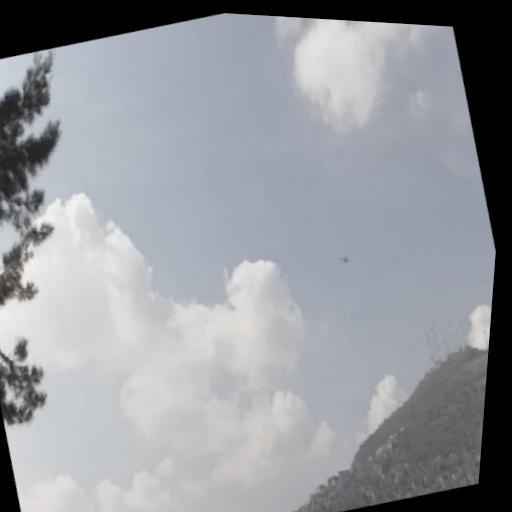drones: (333, 246, 356, 271)
